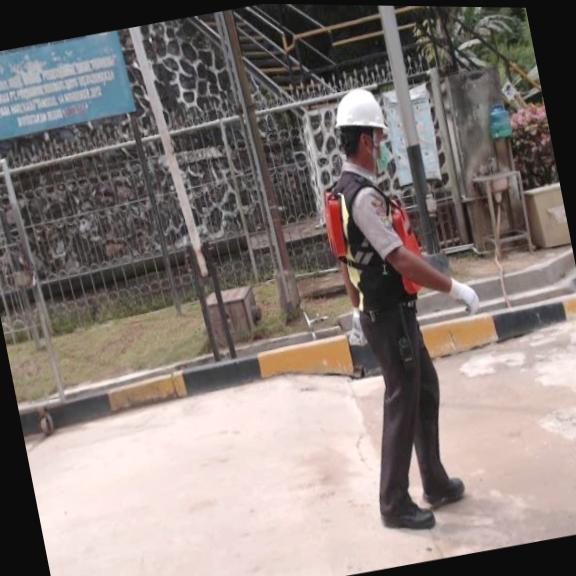safety_vest: (316, 170, 438, 308)
